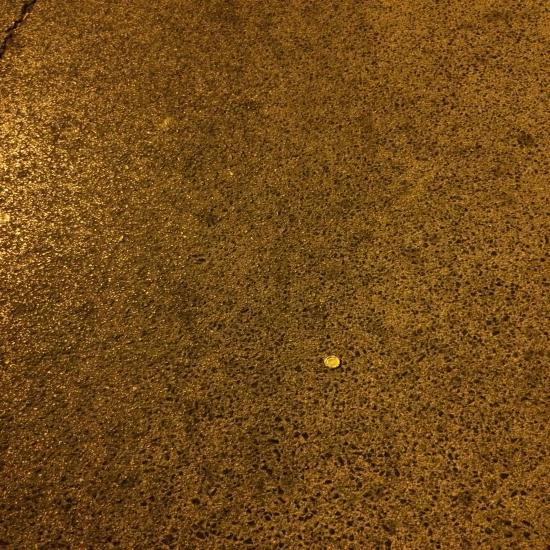Other plastic: (324, 356, 340, 369)
